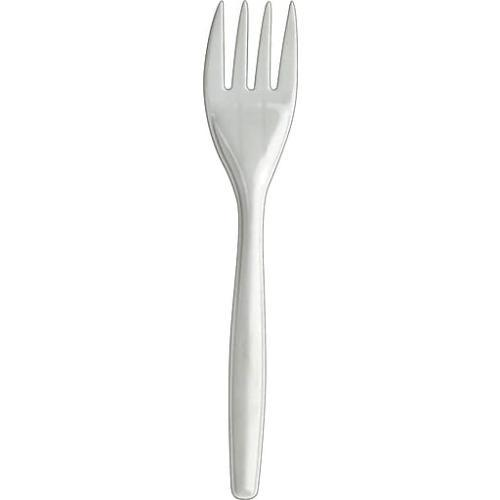Fork: (202, 0, 298, 500)
